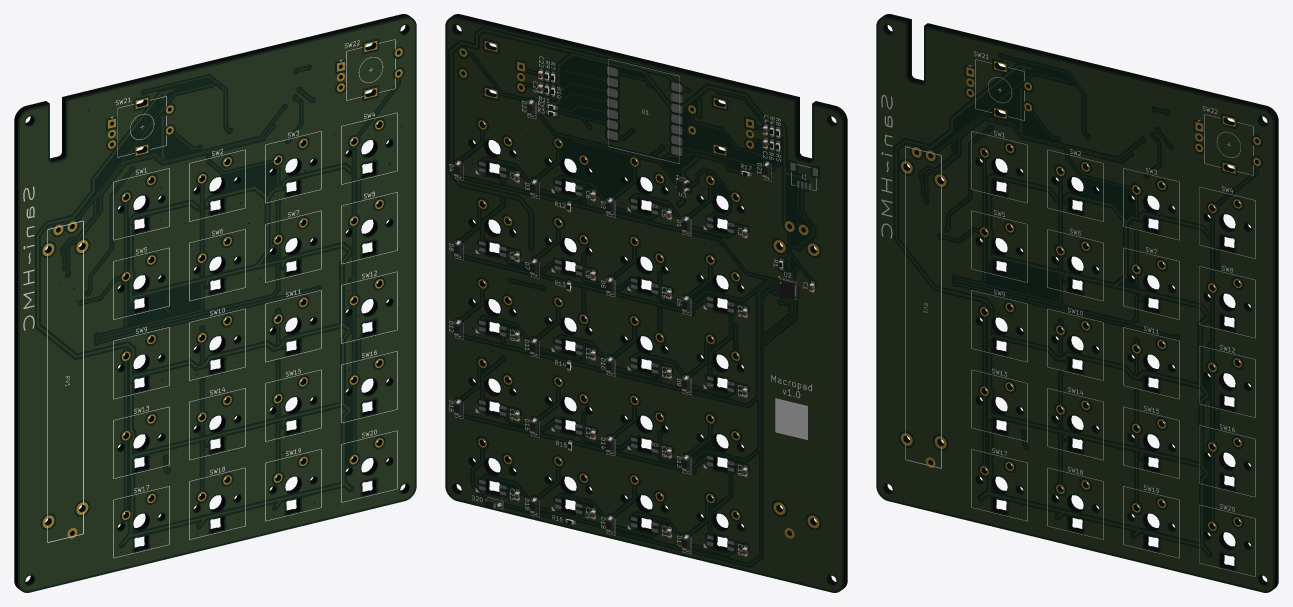
File: pcb_outlook.glb
The picture shows the model from 3 angles, left to right: view 1: azimuth 30°, elevation 25°; view 2: azimuth 150°, elevation 25°; view 3: azimuth 330°, elevation 25°; orthographic projection.
Visible parts, largest first — view 1: SHAPE_353, SHAPE_352, SHAPE_350, SHAPE_351, SHAPE_357; view 2: SHAPE_356, SHAPE_354, SHAPE_350, SHAPE_351, SHAPE_355, SHAPE_358; view 3: SHAPE_353, SHAPE_352, SHAPE_350, SHAPE_351, SHAPE_357.
Boxes of the visible parts, x1,y1,x2,y2 form: SHAPE_353: (18,16,416,592); SHAPE_352: (20,19,413,589); SHAPE_350: (18,17,415,592); SHAPE_351: (14,14,411,589); SHAPE_357: (23,39,397,558); SHAPE_356: (445,16,843,592); SHAPE_354: (448,19,841,589); SHAPE_350: (446,17,843,592); SHAPE_351: (450,14,847,589); SHAPE_355: (457,66,817,556); SHAPE_358: (449,56,816,555); SHAPE_353: (876,16,1274,592); SHAPE_352: (879,19,1272,589); SHAPE_350: (877,17,1274,592); SHAPE_351: (881,14,1278,589); SHAPE_357: (881,51,1255,576).
Size of the model in its own units: 0.1 by 0.116 by 0.00323.
